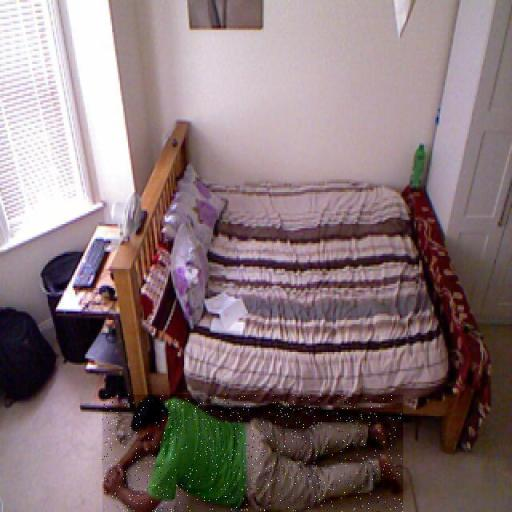Fall: (103, 394, 404, 512)
